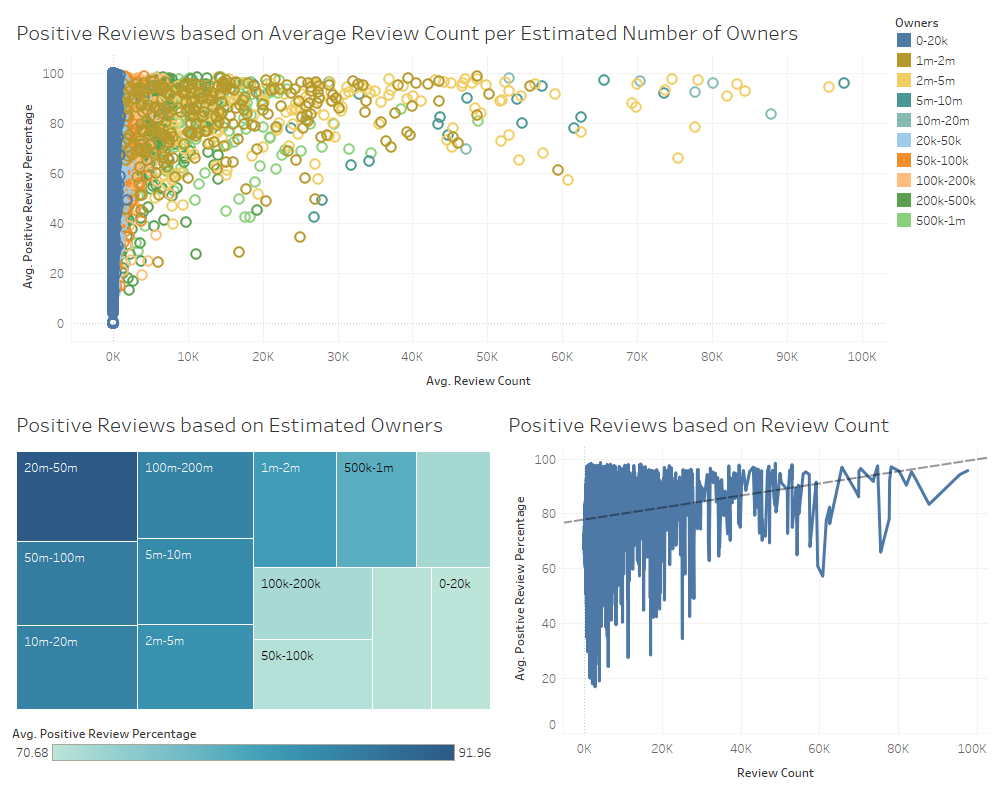

This screenshot's page, from the dashboard's own definition file:
{"tool":"tableau","page":{"name":"Popularity","canvas":[1000,800],"ordinal":1},"visuals":[{"type":"worksheet","title":"Popularity Multivariate","mark":"Automatic","rows":["Calculation_786159644411617280"],"cols":["Calculation_220957891347922944"],"box":[8,8,882,392]},{"type":"legend","title":"Popularity Multivariate","param":"[federated.07r1u2e1gebhgq17fzr1u1sawiid].[none:owners:nk]","box":[890,8,102,230]},{"type":"worksheet","title":"Owners","mark":"Automatic","box":[8,400,492,317]},{"type":"worksheet","title":"Review Amount","mark":"Automatic","rows":["Calculation_786159644411617280"],"cols":["Calculation_220957891347922944"],"box":[500,400,492,392]},{"type":"legend","title":"Owners","param":"[federated.07r1u2e1gebhgq17fzr1u1sawiid].[avg:Calculation_786159644411617280:qk]","box":[8,717,492,75]}]}

Visuals, with their boxes in screenshot pixels (x1, y1, x2, y2), scaled from the page's 1000x800 canvas onto the 1000x800 screenshot:
"Popularity Multivariate" worksheet: x1=8 y1=8 x2=890 y2=400
"Popularity Multivariate" legend: x1=890 y1=8 x2=992 y2=238
"Owners" worksheet: x1=8 y1=400 x2=500 y2=717
"Review Amount" worksheet: x1=500 y1=400 x2=992 y2=792
"Owners" legend: x1=8 y1=717 x2=500 y2=792
